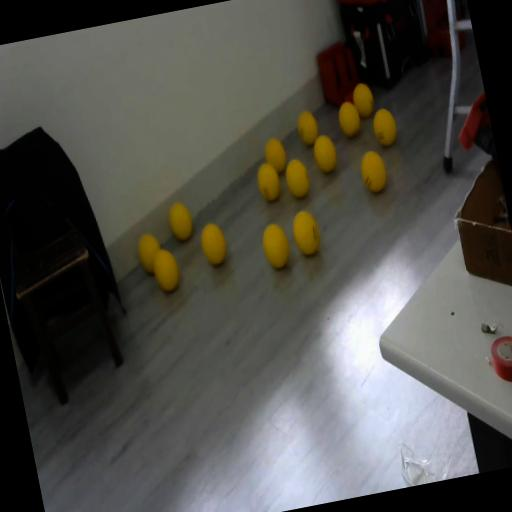FUEL: (148, 244, 184, 296), (288, 207, 324, 259), (258, 219, 293, 271), (356, 148, 390, 196), (197, 219, 230, 268), (282, 156, 312, 200), (311, 132, 341, 176), (166, 200, 196, 244), (254, 161, 284, 204), (370, 106, 400, 148), (335, 98, 364, 140), (262, 135, 290, 177), (350, 80, 377, 119), (294, 108, 320, 148)
